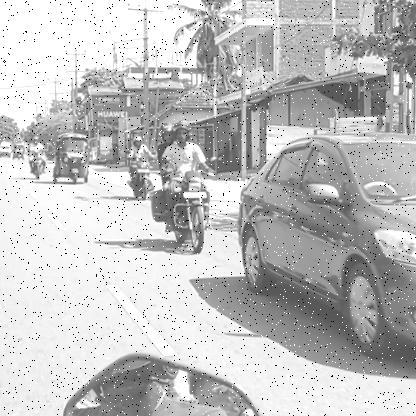motorcycle: (150, 168, 218, 256)
